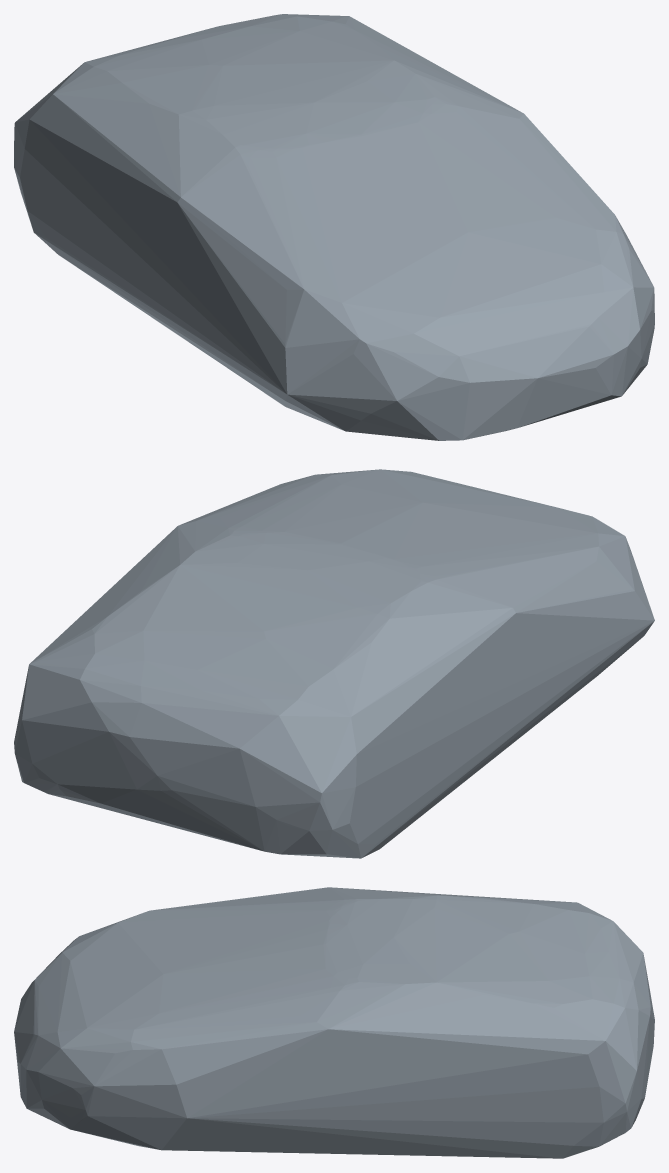
The model's file is car-concept-collision.glb.
3 views of the same model, one above another, from view 1: azimuth 30°, elevation 25°; view 2: azimuth 150°, elevation 25°; view 3: azimuth 270°, elevation 25° (orthographic). The views are drawn at different scales.
Parts seen in each view (by area): view 1: car-concept_collision; view 2: car-concept_collision; view 3: car-concept_collision.
Part boxes in pixels (x1=…): car-concept_collision: x1=14, y1=14, x2=654, y2=440; car-concept_collision: x1=14, y1=469, x2=654, y2=858; car-concept_collision: x1=14, y1=887, x2=654, y2=1158.
Bounding box in the file's own units: 2.68 × 1.21 × 4.6.
